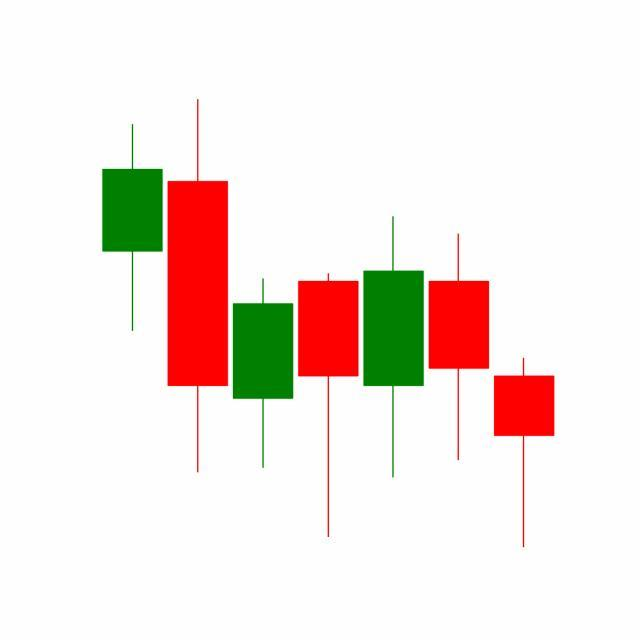Hikkake Pattern: (229, 212, 555, 549)
